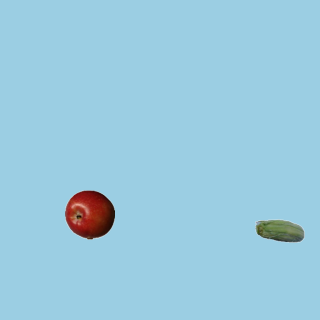Apple Braeburn: (64, 189, 114, 239)
Corn Husk: (254, 207, 304, 257)
